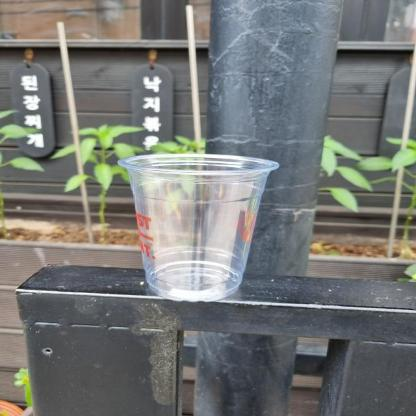Plastic Cup: (112, 146, 282, 308)
